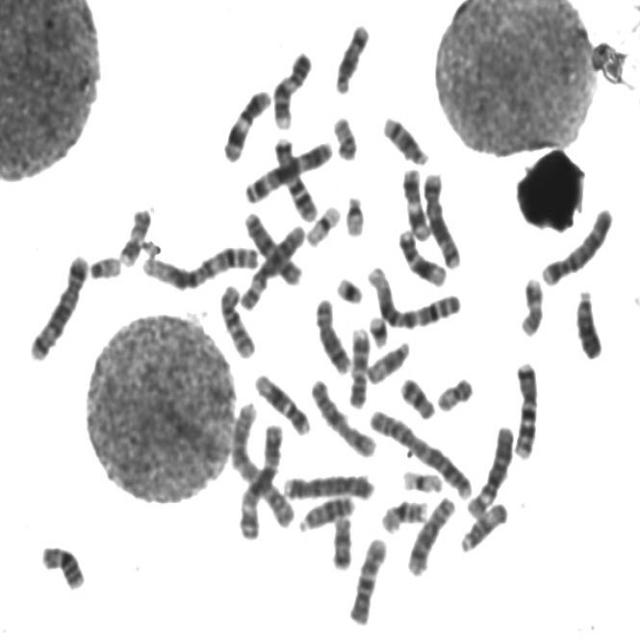A1: (363, 258, 464, 330), (137, 235, 260, 292)
A2: (365, 402, 474, 501), (226, 394, 298, 530)
A3: (240, 133, 336, 204), (234, 418, 285, 541)
B4: (537, 201, 615, 287), (276, 465, 376, 502)
B5: (24, 245, 91, 362), (419, 164, 463, 269)
C10: (344, 530, 389, 627), (214, 276, 258, 360)
C11: (218, 83, 274, 163), (398, 161, 433, 242)
C12: (249, 365, 312, 436), (392, 221, 448, 288)
C6: (235, 218, 307, 310), (462, 418, 516, 520)
C7: (270, 130, 320, 222), (507, 354, 541, 461)
C8: (402, 489, 457, 577), (310, 290, 352, 376)
C9: (268, 44, 314, 130), (344, 320, 372, 410)
D13: (294, 489, 357, 532), (571, 282, 604, 360)
D14: (330, 15, 373, 96), (377, 108, 430, 166)
D15: (455, 495, 511, 554), (360, 333, 412, 385)
E16: (34, 537, 86, 592), (376, 492, 430, 535)
E17: (115, 200, 154, 268), (515, 270, 546, 338)
E18: (395, 370, 437, 420), (326, 508, 354, 572)
F19: (301, 197, 343, 248), (398, 462, 444, 494)
F20: (432, 370, 476, 413), (327, 108, 360, 162)
G21: (331, 269, 366, 305), (364, 308, 391, 350)
G22: (340, 188, 368, 237), (84, 248, 122, 281)
X: (305, 372, 378, 459), (239, 204, 303, 287)
